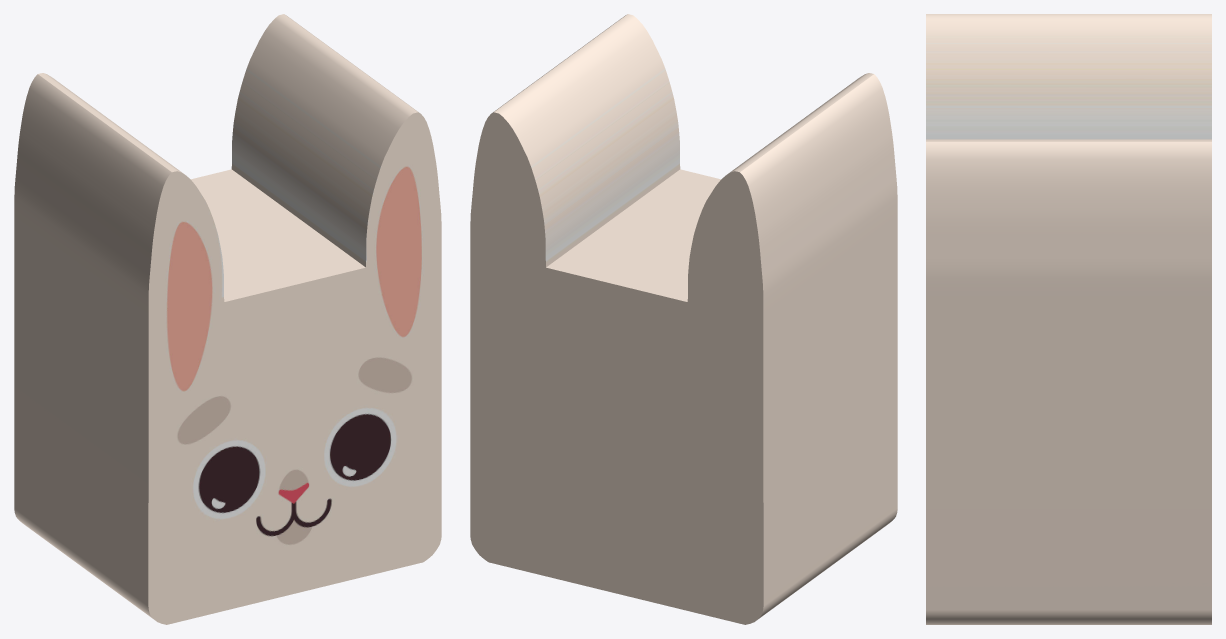
File: Rabbit.fbx
3 views of the same model, side by side, from view 1: azimuth 30°, elevation 25°; view 2: azimuth 150°, elevation 25°; view 3: azimuth 270°, elevation 25° (orthographic). The views are drawn at different scales.
Visible parts, largest first — view 1: rabbit; view 2: rabbit; view 3: rabbit.
Boxes of the visible parts, left/top/right/bottom form: rabbit: left=14, top=14, right=441, bottom=624; rabbit: left=470, top=14, right=897, bottom=624; rabbit: left=926, top=14, right=1211, bottom=624.
Bounding box in the file's own units: 5.34 × 7.86 × 4.24.
Materials: 1 (1 with a texture image).
